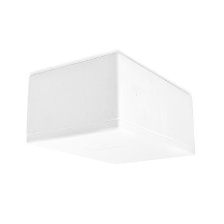foam_box: (16, 46, 201, 173)
